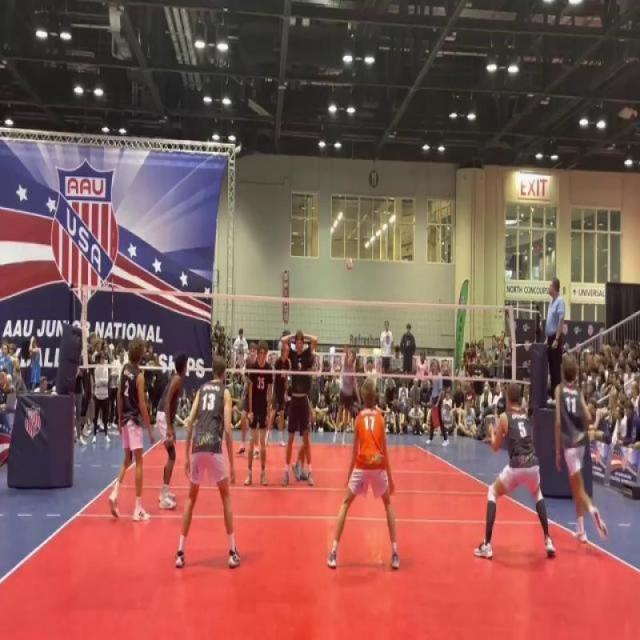volleyball: (346, 258, 352, 272)
